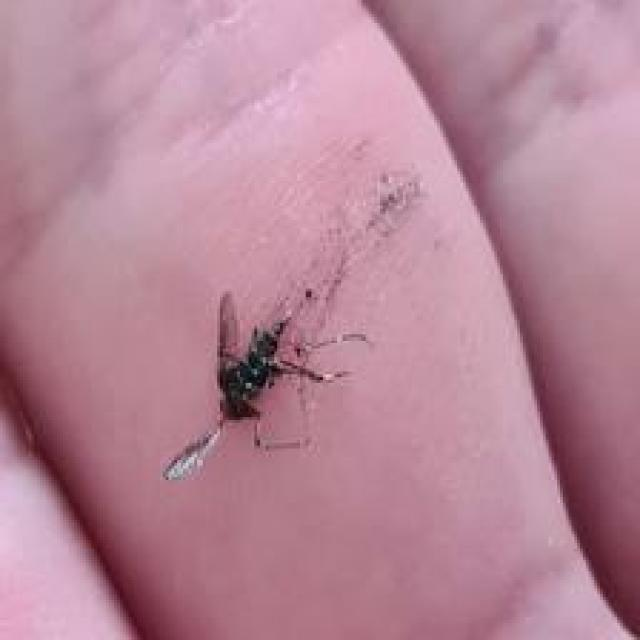Aedes albopictus: (160, 286, 369, 483)
